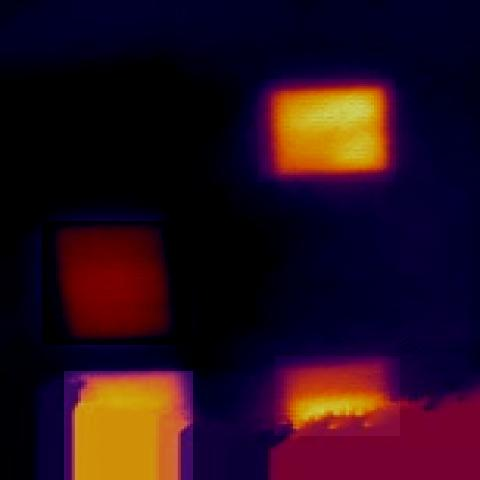fault: (42, 221, 192, 345), (258, 79, 396, 182), (64, 371, 193, 480), (275, 356, 400, 436)
